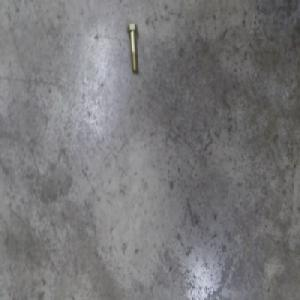Bolt: (128, 26, 141, 75)
